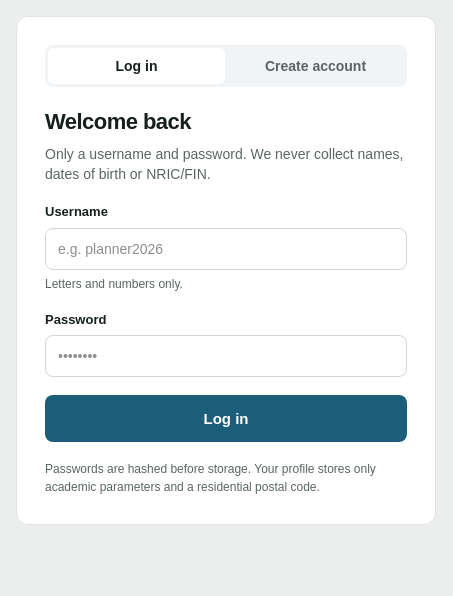
Test: LoginView (UC-2.1, UC-2.2) › login form › asks for a username, then a password
Step 1. Submit the form
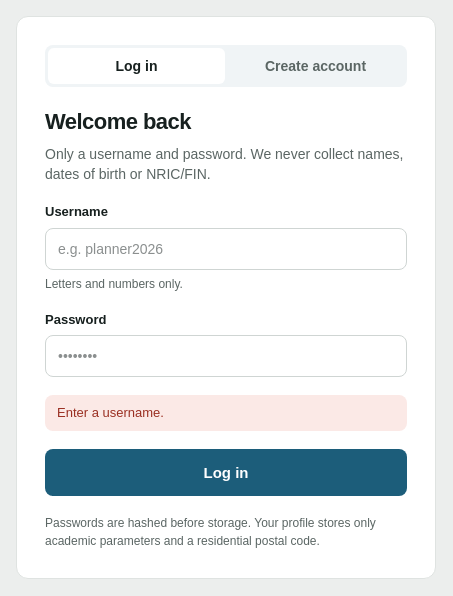
Expected: the message "Enter a username." is shown, [45, 395, 407, 430]
Step 2. Type "planner2026" into the field labelled "Username" → (226, 248), box [45, 228, 407, 270]
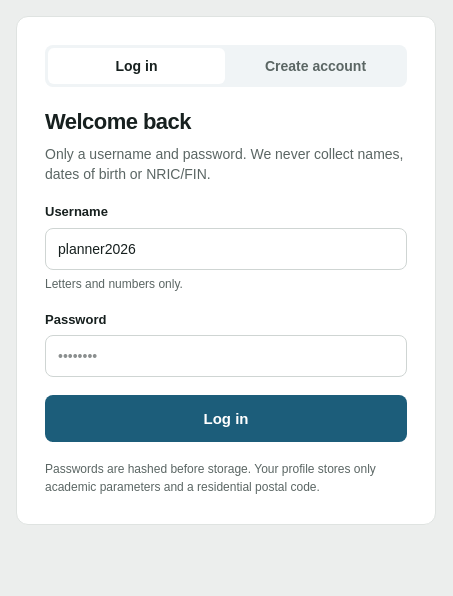
Step 3. Submit the form
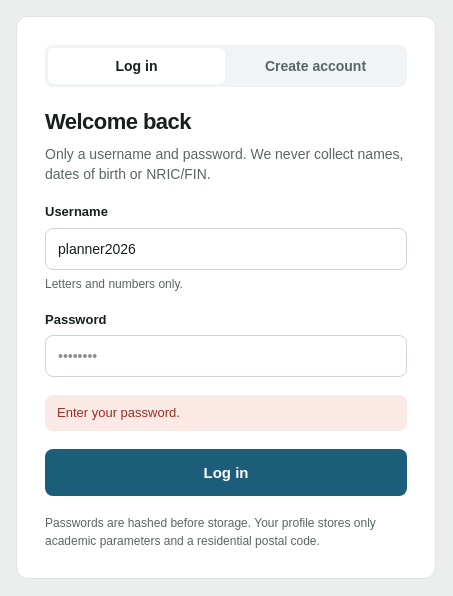
Expected: the message "Enter your password." is shown, [45, 395, 407, 430]
